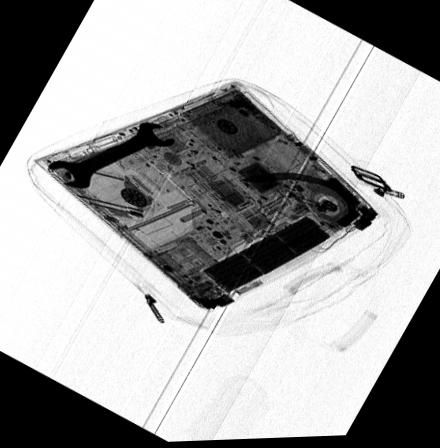Wrench: (43, 120, 178, 190)
